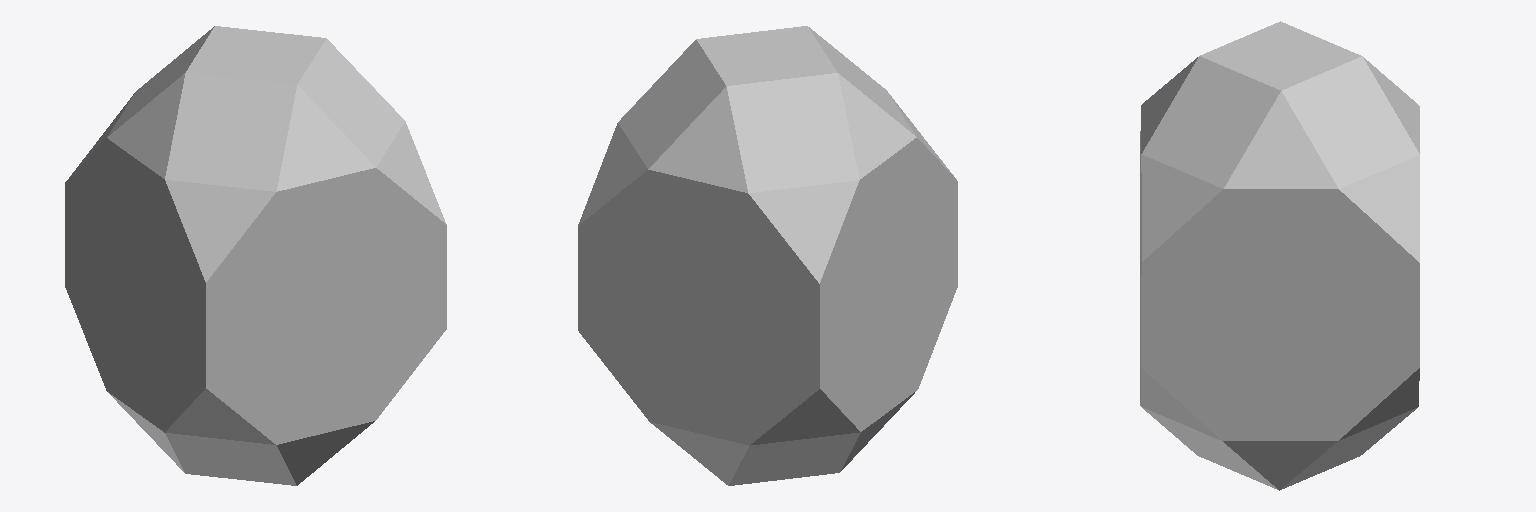
Rendered from BiAugmentedTruncatedCube.obj.
3 renders of one model, left to right at view 1: azimuth 30°, elevation 25°; view 2: azimuth 150°, elevation 25°; view 3: azimuth 270°, elevation 25°, orthographic.
Parts seen in each view (by area): view 1: BiAugmentedTruncatedCube; view 2: BiAugmentedTruncatedCube; view 3: BiAugmentedTruncatedCube.
Part boxes in pixels (left/top/right/bottom): BiAugmentedTruncatedCube: left=65, top=26, right=446, bottom=485; BiAugmentedTruncatedCube: left=578, top=26, right=957, bottom=485; BiAugmentedTruncatedCube: left=1140, top=21, right=1419, bottom=490.
Bounding box in the file's own units: 1.82 × 2.88 × 1.82.